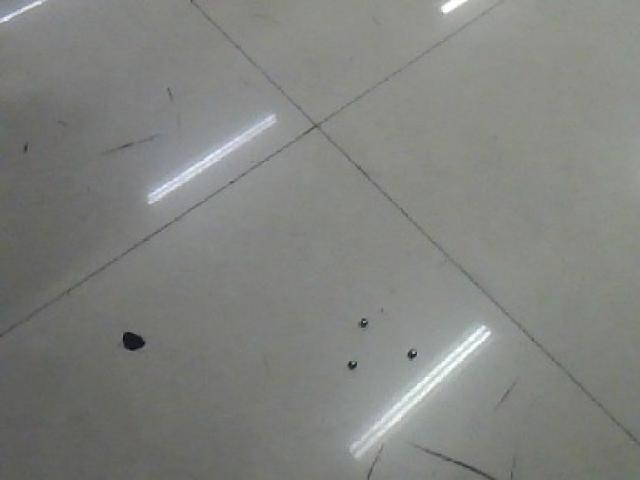steel-ball: (392, 329, 420, 366), (336, 343, 362, 375), (349, 305, 371, 329)
